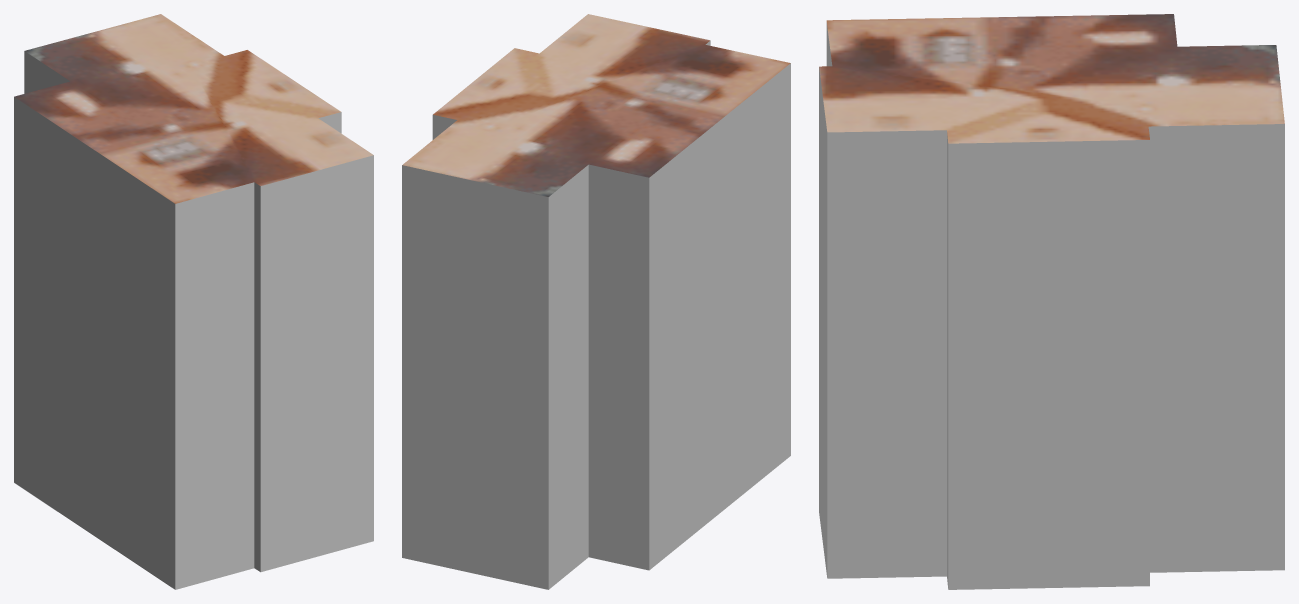
File: DEBW_0010007TxgG.gltf
3 views of the same model, side by side, from view 1: azimuth 30°, elevation 25°; view 2: azimuth 150°, elevation 25°; view 3: azimuth 270°, elevation 25° (orthographic). The views are drawn at different scales.
Visible parts, largest first — view 1: Z_UP; view 2: Z_UP; view 3: Z_UP.
Boxes of the visible parts, x1,y1,x2,y2 form: Z_UP: (14,14,373,589); Z_UP: (402,14,790,589); Z_UP: (819,14,1284,589).
Bounding box in the file's own units: 11.57 × 18.56 × 17.56.
2 materials, 1 textured.
